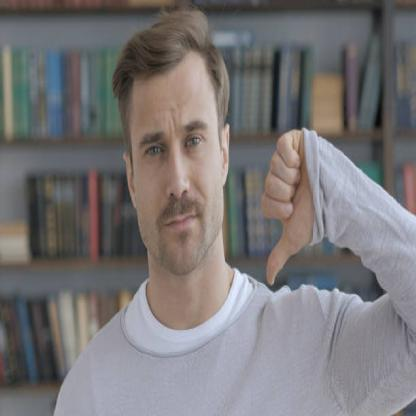thumb_down: (258, 122, 322, 290)
